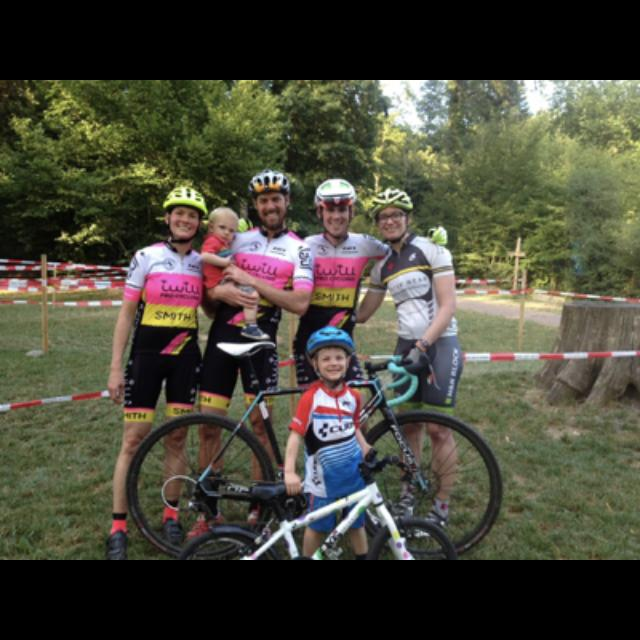With Helmet: (294, 322, 366, 382), (369, 186, 419, 240)
